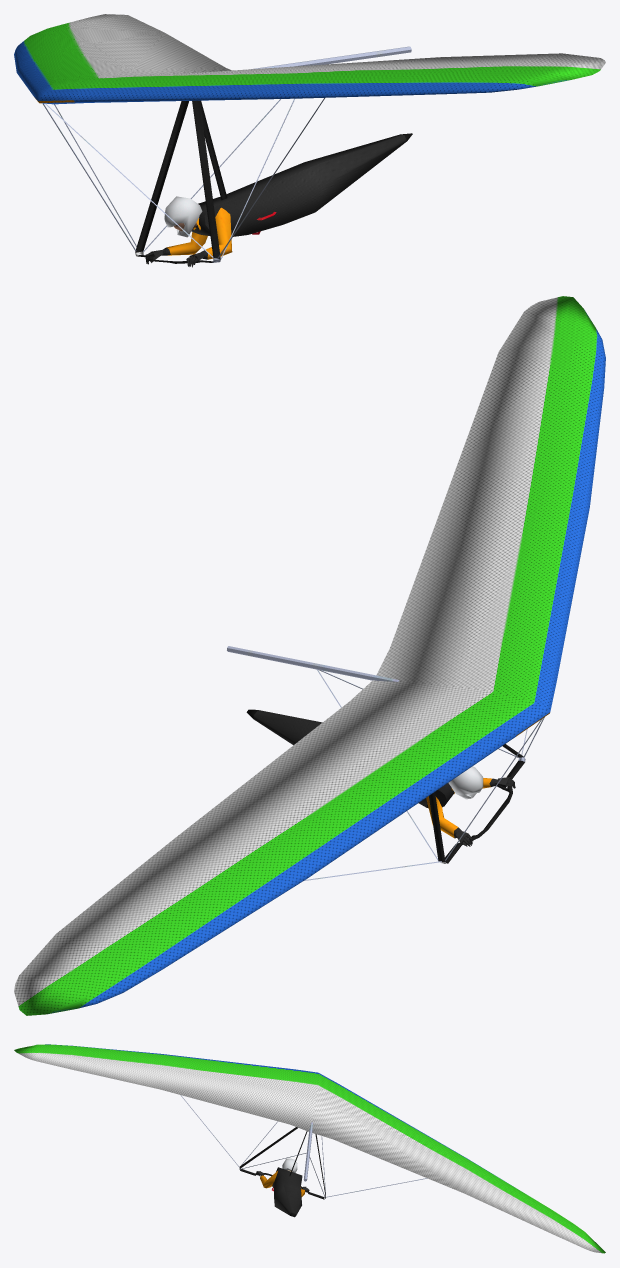
File: hang-glider-green-ridge-cbj_LOD01.gltf
The picture shows the model from 3 angles, top to bottom: view 1: azimuth 30°, elevation 25°; view 2: azimuth 150°, elevation 25°; view 3: azimuth 270°, elevation 25°; orthographic projection. The views are drawn at different scales.
Parts seen in each view (by area): view 1: hang-glider01; view 2: hang-glider01; view 3: hang-glider01.
Part boxes in pixels (x1,y1,x2,y2): hang-glider01: (14,14,605,267); hang-glider01: (14,296,605,1015); hang-glider01: (14,1044,605,1253).
Size of what is drawn, in the model's own units: 3.48 by 3.44 by 9.44.
